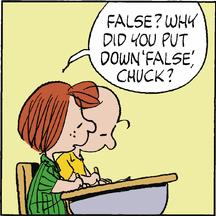charlie: (55, 85, 134, 190)
